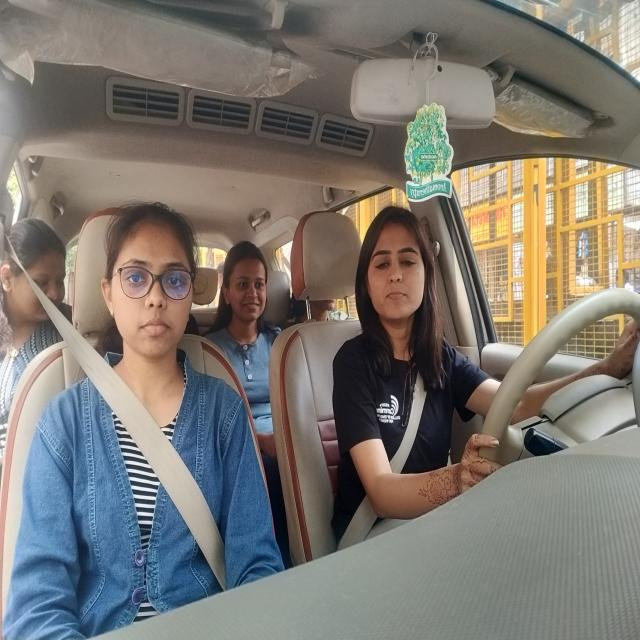person: (99, 202, 195, 364), (352, 202, 435, 333), (0, 216, 70, 331), (219, 243, 268, 326)
